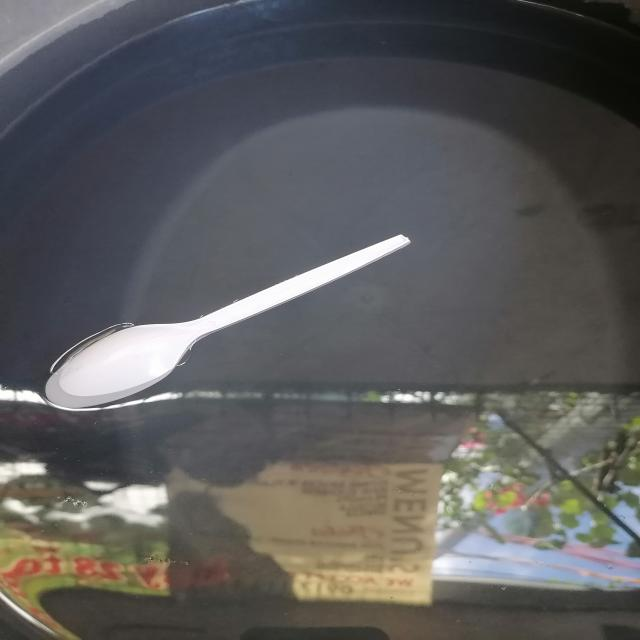Plastic Spoon: (26, 216, 437, 430)
